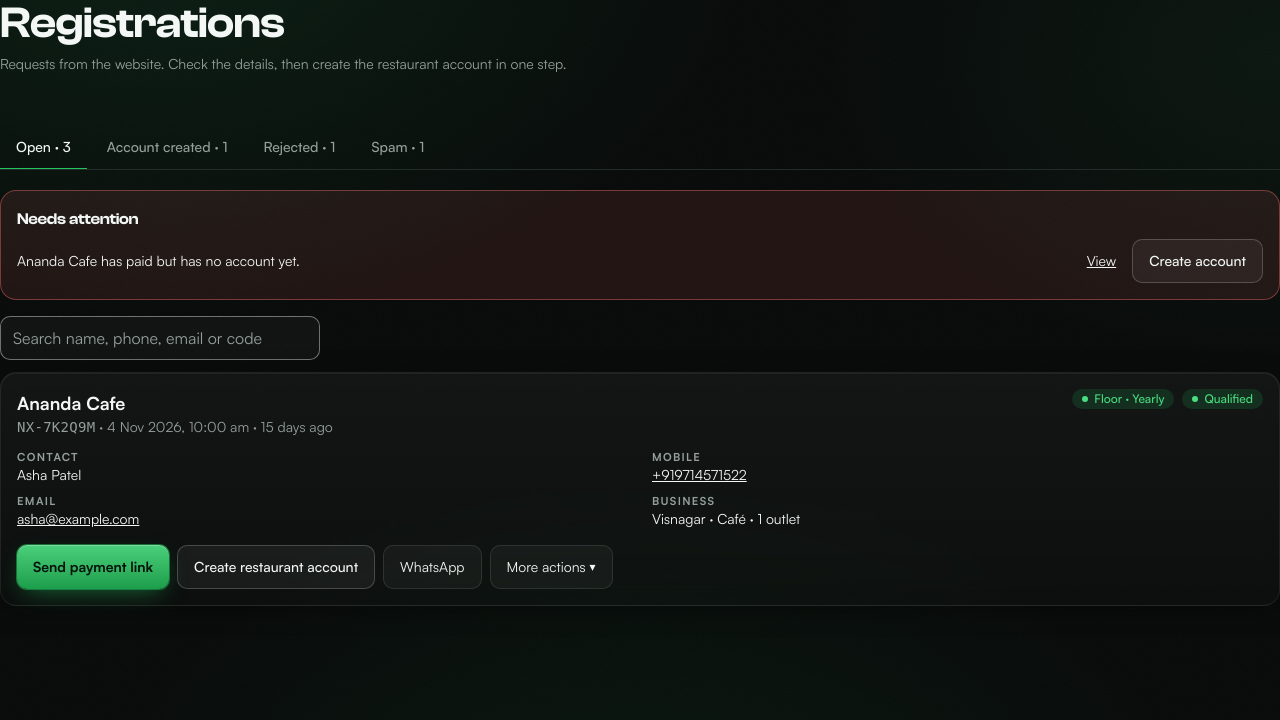
Test: Registrations: needs attention › a paid request with no account offers Create account, which opens the account dialog
Check: the text "Ananda Cafe has paid but has no account yet." is shown, box [17, 251, 300, 271]
Click the button "Create account".
click(1198, 261)  # box [1132, 239, 1263, 283]
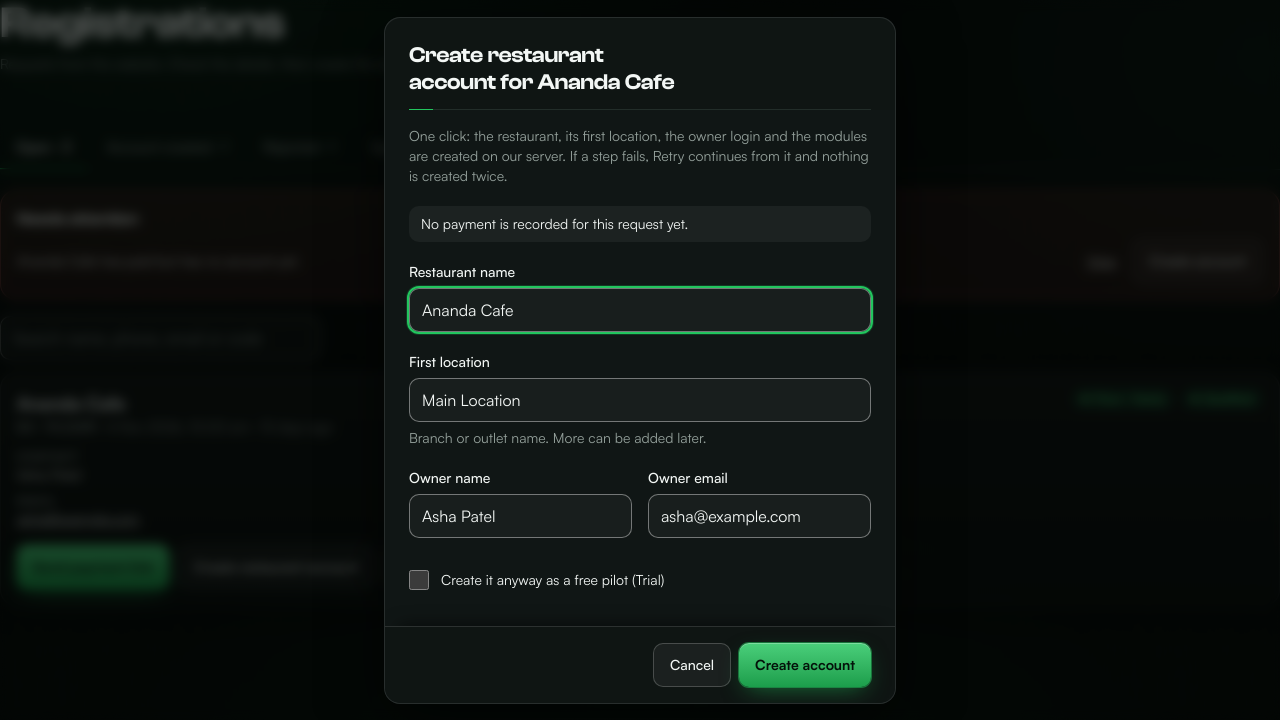
Check: the field showing "Ananda Cafe" is shown, box [409, 288, 871, 332]
